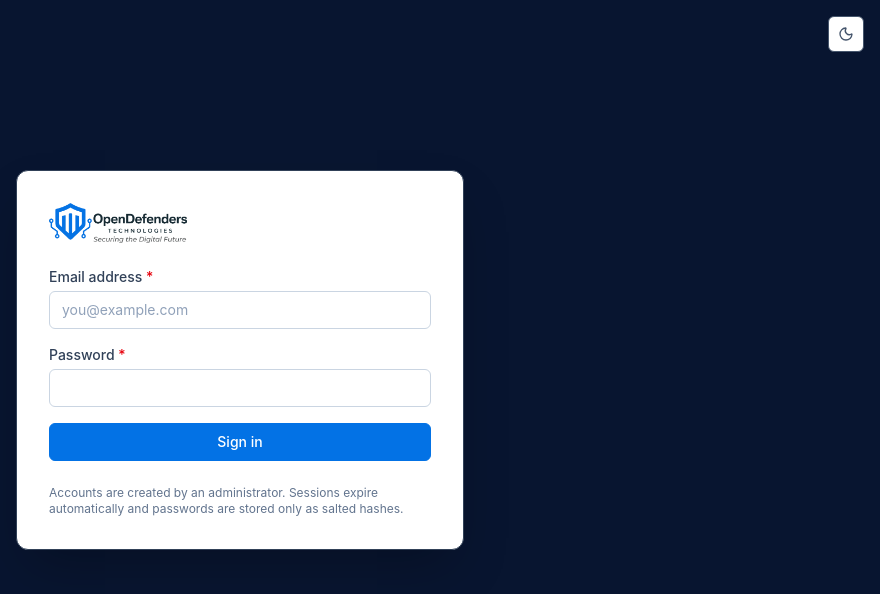
Scenario: login page › shows a server error message for bad credentials
Type "analyst@example.com" into the field labelled "Email address *".
click(240, 310); type("analyst@example.com")  # box [49,291,431,329]
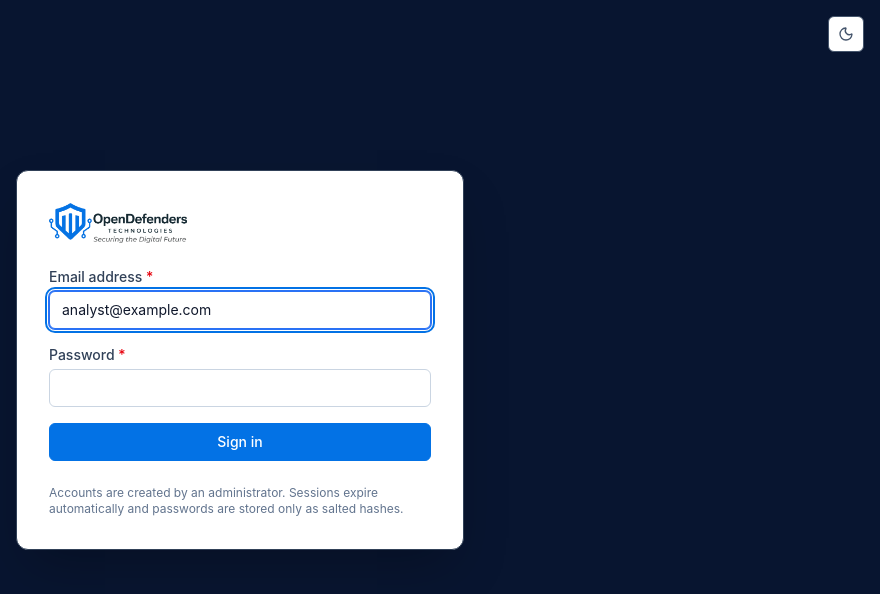
Type "wrong-password" into the password field labelled "Password *".
click(240, 388); type("wrong-password")  # box [49,369,431,407]
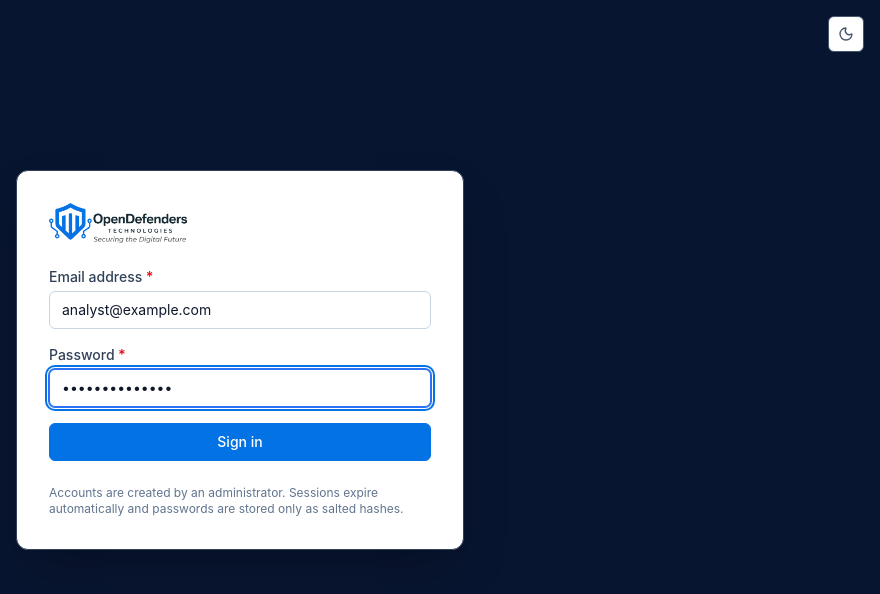
Click the button "Sign in".
click(240, 442)  # box [49,423,431,461]
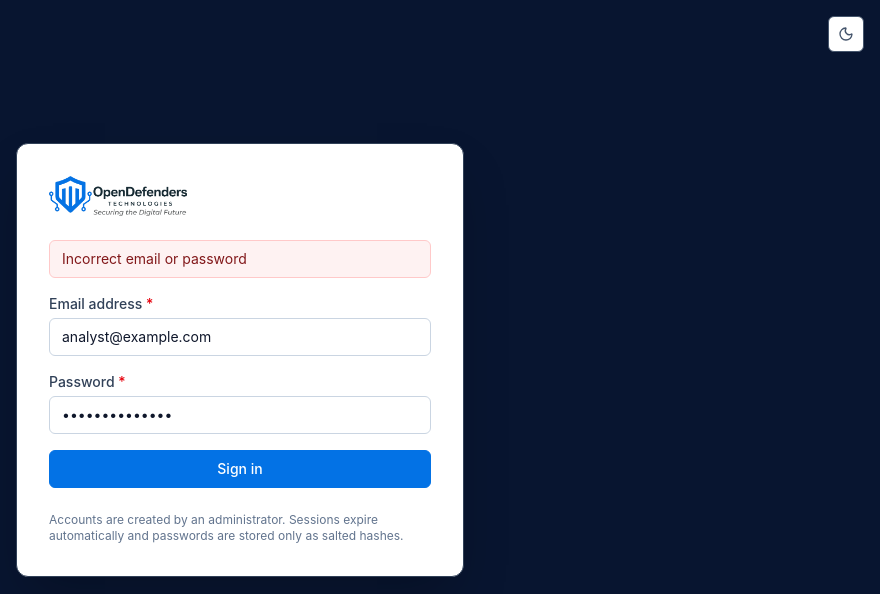
Check: the text "Incorrect email or password" is shown, box [49,240,431,278]
